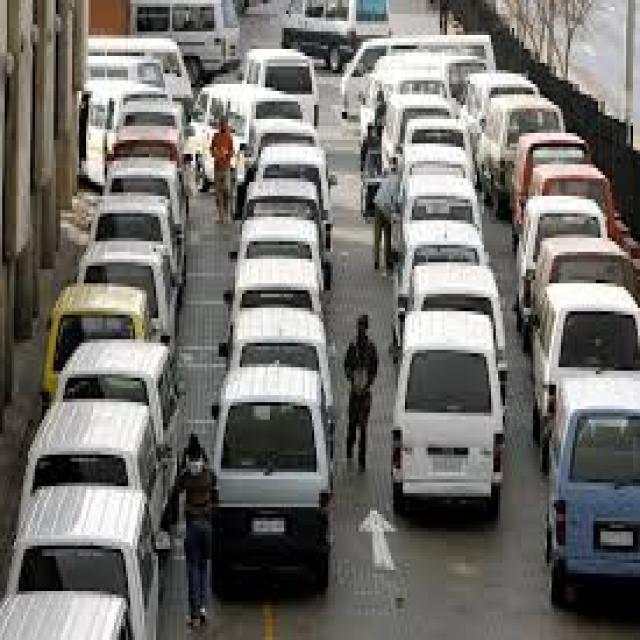MiniBus taxi: (200, 370, 352, 602), (396, 311, 521, 532), (537, 374, 640, 612)
